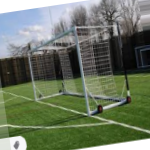goals: (26, 23, 130, 116)
